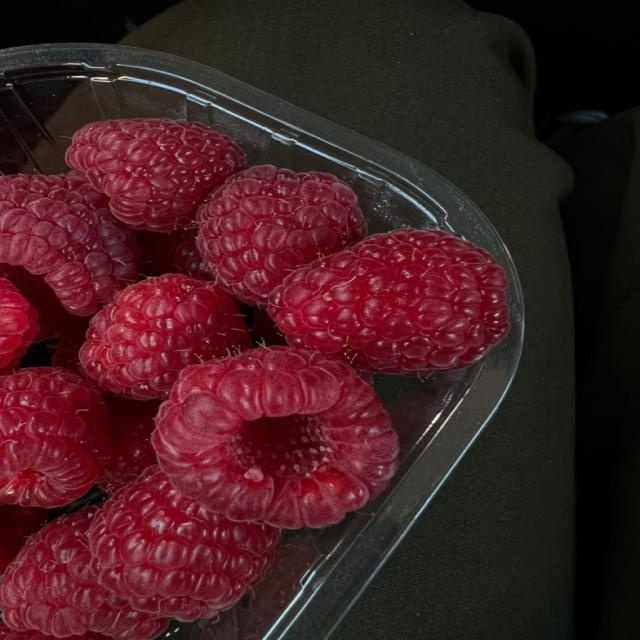raspberry: (153, 347, 398, 528), (269, 229, 509, 374), (89, 468, 279, 621), (198, 166, 366, 305), (0, 507, 166, 639), (80, 275, 250, 399), (67, 119, 244, 232), (0, 173, 139, 315), (0, 368, 110, 507), (96, 398, 159, 493), (0, 264, 76, 341), (139, 229, 213, 280), (0, 278, 39, 370), (0, 505, 48, 574), (0, 505, 48, 553), (52, 316, 89, 373), (0, 623, 106, 639), (252, 308, 286, 346), (0, 547, 13, 575)
